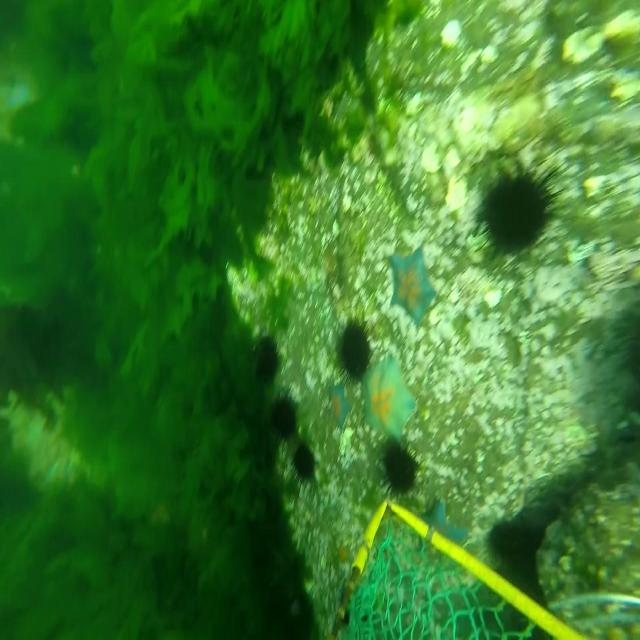echinus: (474, 146, 572, 262), (378, 436, 421, 505), (336, 314, 374, 389), (485, 516, 532, 571), (268, 389, 298, 444), (254, 329, 281, 389), (290, 441, 316, 493)
starfish: (358, 352, 421, 446), (418, 493, 472, 574), (386, 242, 438, 326), (327, 382, 352, 432)
